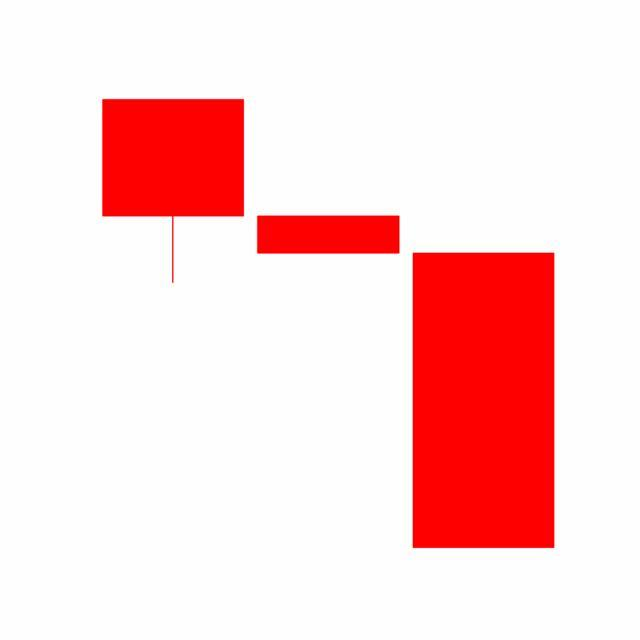Marubozu: (406, 250, 562, 551)
